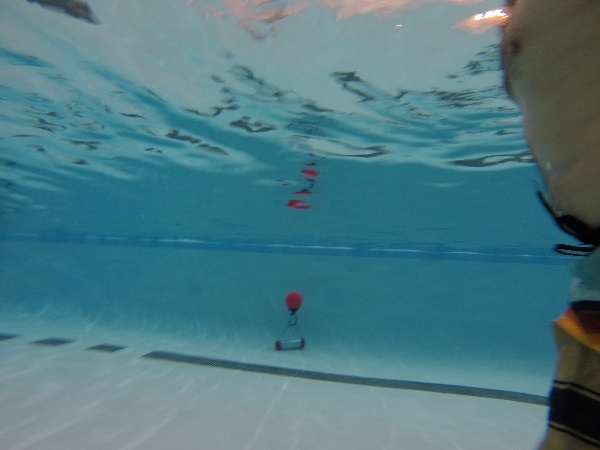buoy_red: (283, 291, 302, 313)
